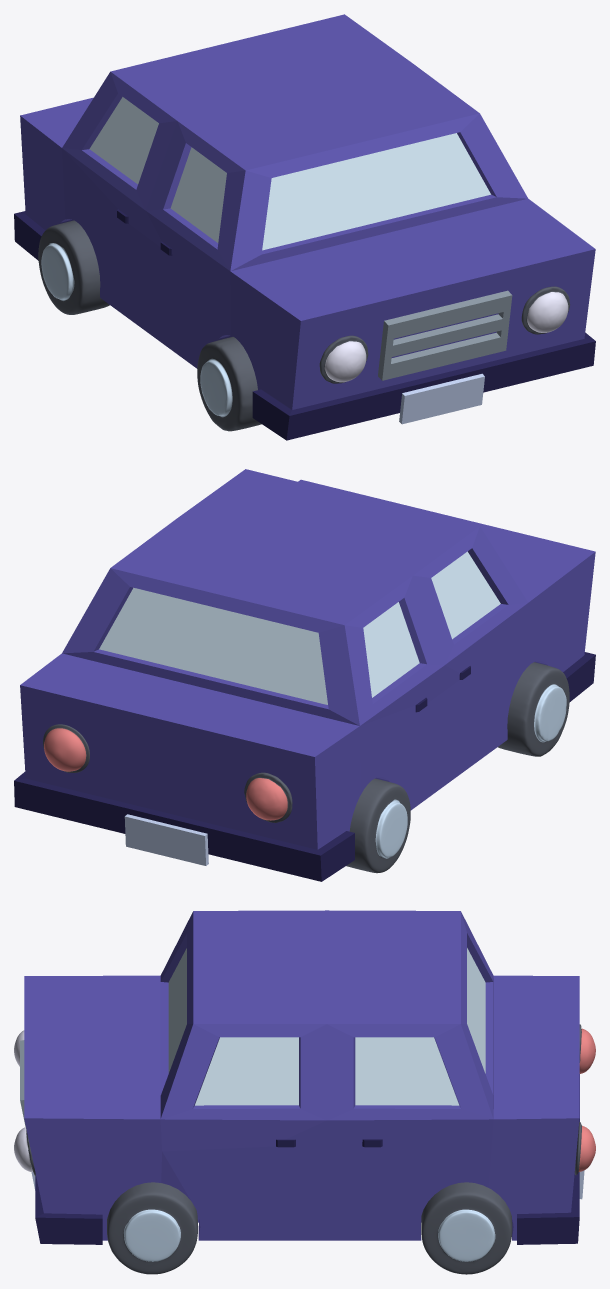
File: lavender_car.fbx
3 views of the same model, one above another, from view 1: azimuth 30°, elevation 25°; view 2: azimuth 150°, elevation 25°; view 3: azimuth 270°, elevation 25° (orthographic).
Parts seen in each view (by area): view 1: car, wheels, plate; view 2: car, wheels, plate; view 3: car, wheels, plate.
Part boxes in pixels (x1,y1,x2,y2): car: [14, 14, 595, 440]; wheels: [38, 220, 570, 431]; plate: [378, 290, 512, 424]; car: [14, 469, 595, 881]; wheels: [43, 662, 569, 873]; plate: [124, 814, 208, 865]; car: [24, 910, 579, 1244]; wheels: [14, 1024, 595, 1274]; plate: [20, 1040, 584, 1199].
Size of the model in its own units: 235 by 154 by 353.
